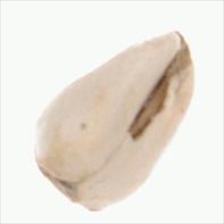L3: (169, 28, 195, 73)
L4: (35, 31, 195, 211)
